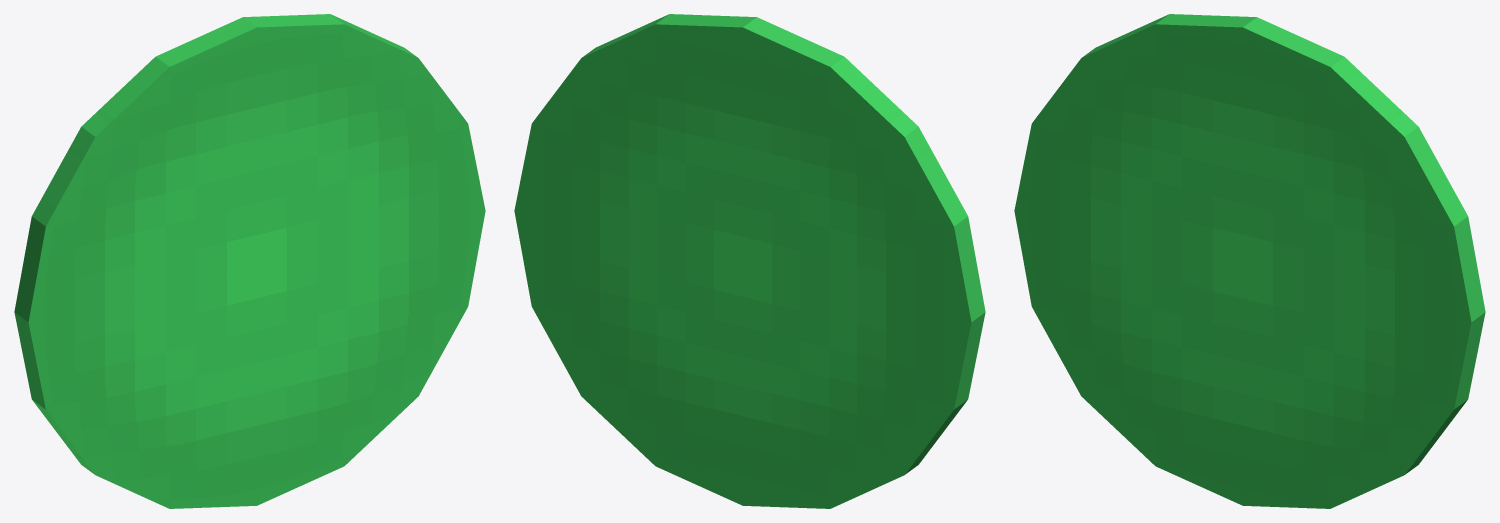
Rendered from lamp_on.obj.
The picture shows the model from 3 angles, left to right: view 1: azimuth 30°, elevation 25°; view 2: azimuth 150°, elevation 25°; view 3: azimuth 330°, elevation 25°; orthographic projection.
Bounding box in the file's own units: 0.112 × 0.112 × 0.006.
